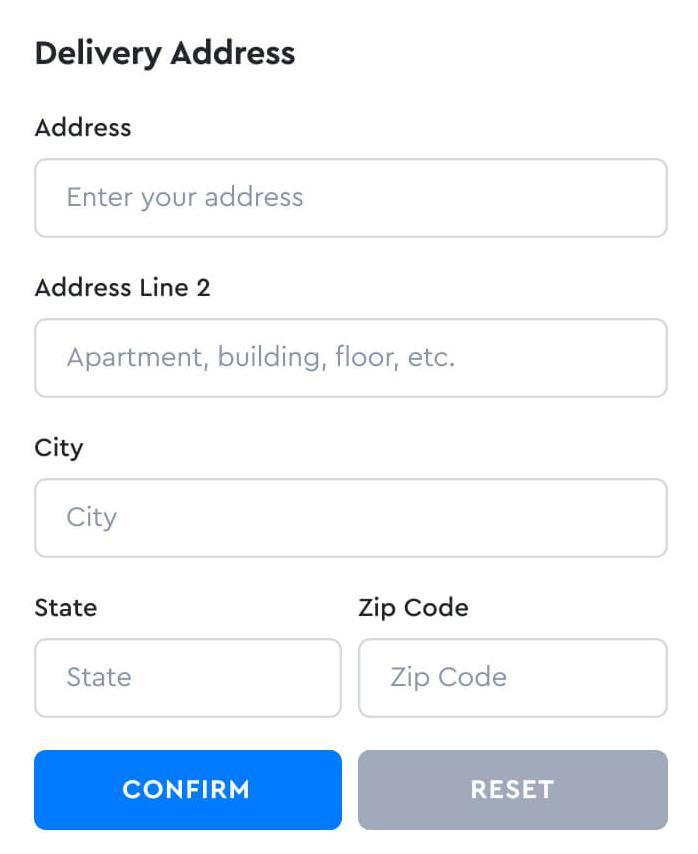button: (34, 747, 344, 831), (356, 752, 668, 832)
input: (35, 158, 668, 239), (34, 478, 669, 558), (34, 319, 668, 397), (35, 638, 345, 719), (358, 640, 669, 720)
label: (28, 271, 214, 308), (26, 102, 141, 145), (352, 593, 477, 625), (19, 592, 110, 624), (29, 438, 93, 463)
